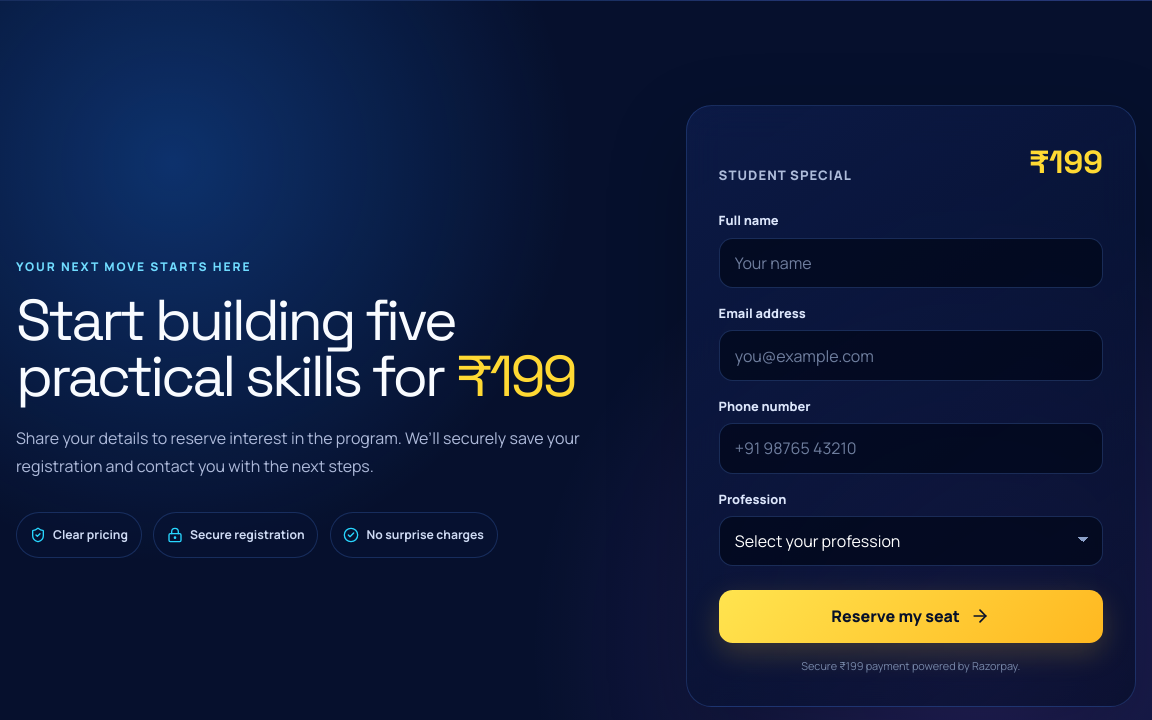
RegistrationSection › rejects a phone number containing letters
Step 1. Type "Meera Kapoor" into the field labelled "Full name" → (911, 263), box [719, 238, 1103, 288]
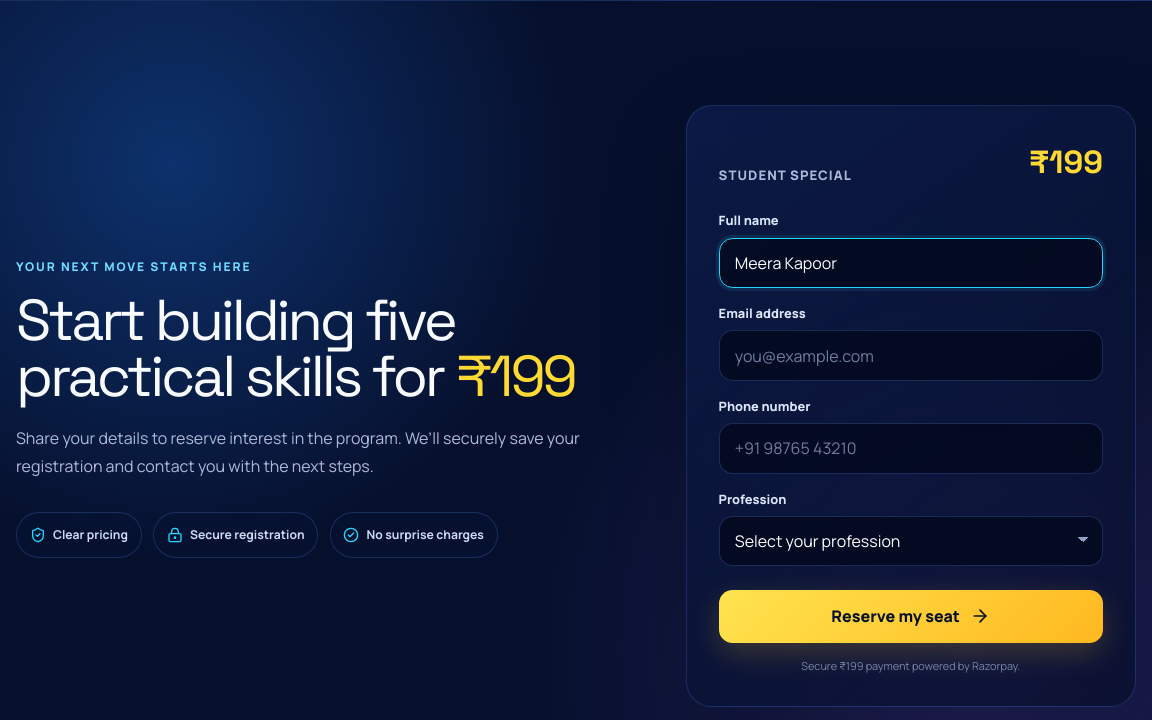
Step 2. Type "meera@example.com" into the field labelled "Email address" → (911, 356), box [719, 330, 1103, 381]
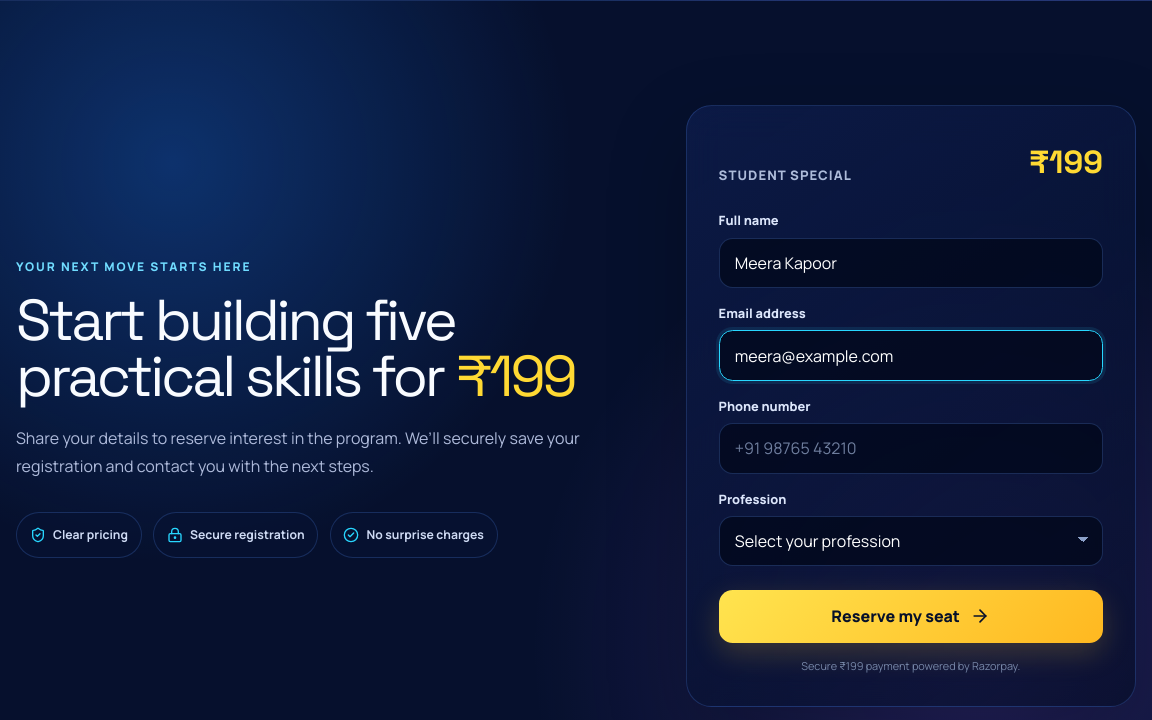
Step 3. Type "abc9876543210" into the field labelled "Phone number" → (911, 448), box [719, 423, 1103, 474]
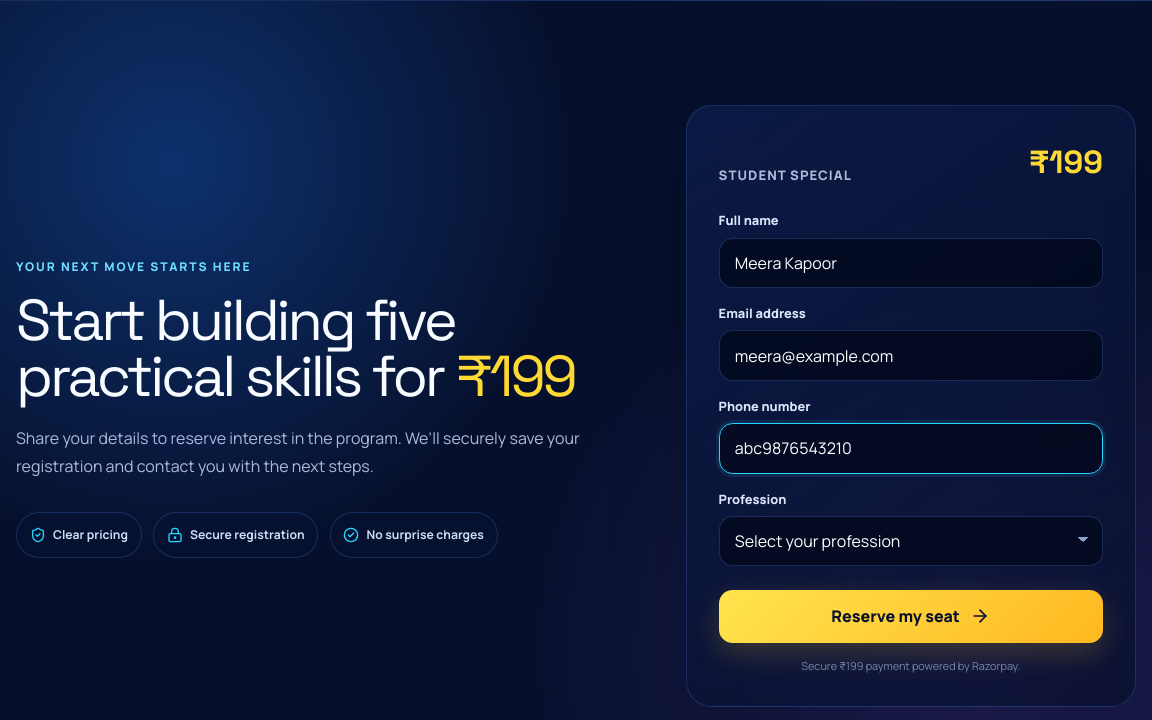
Step 4. Select "Student" in the dropdown labelled "Profession" → (911, 541), box [719, 516, 1103, 566]
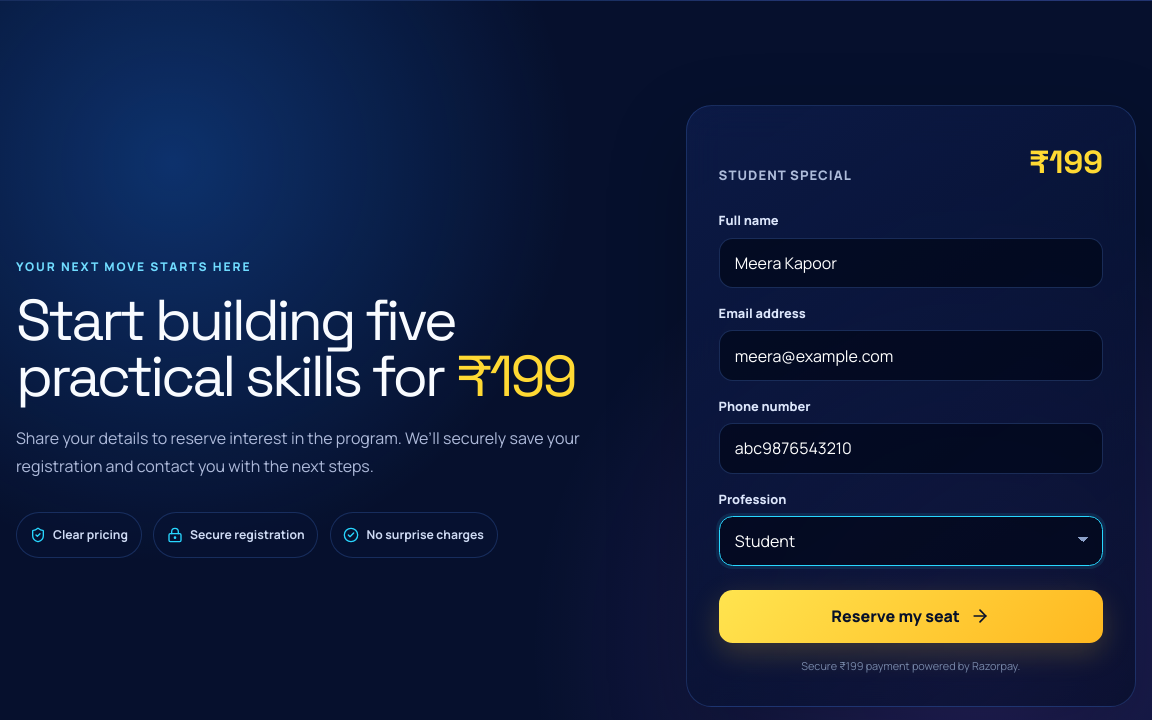
Step 5. Click the button "Reserve my seat" → (911, 616), box [719, 590, 1103, 643]
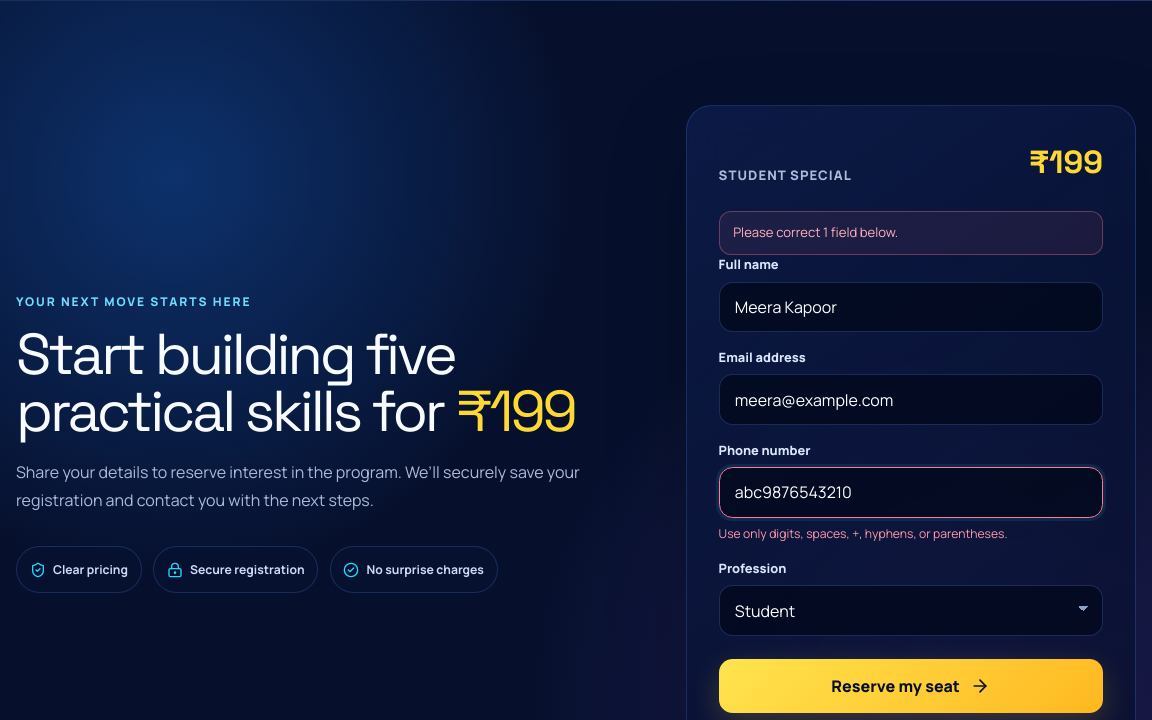
Result: the text "Use only digits, spaces, +, hyphens, or parentheses." is shown at [719, 525, 1008, 542]
